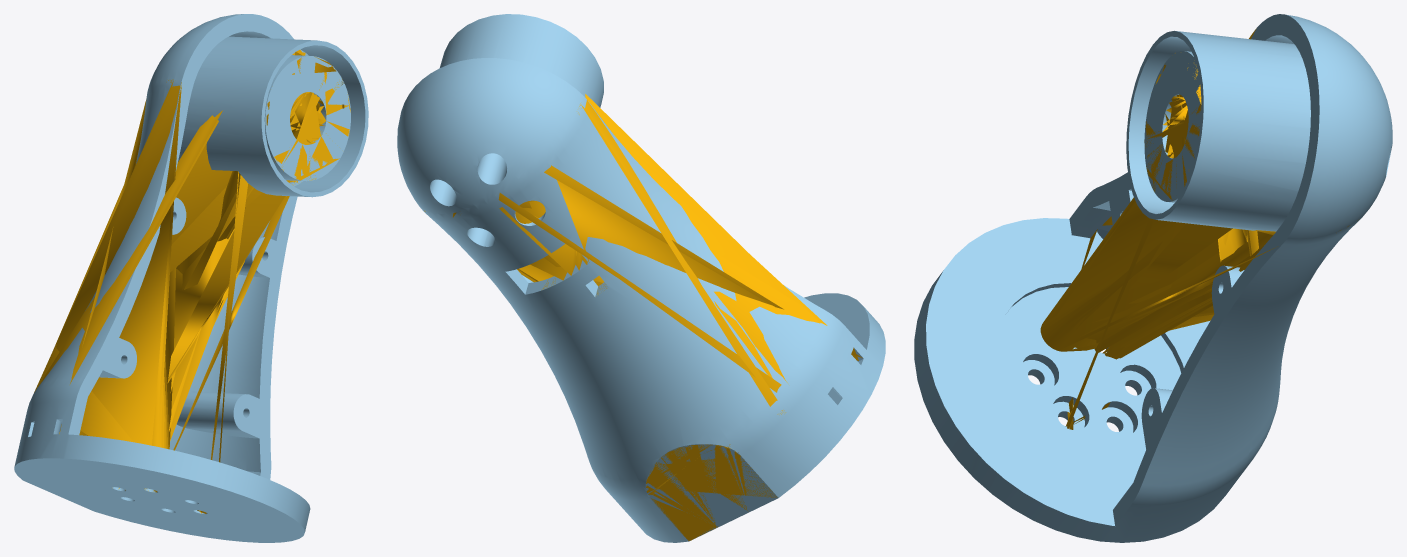
3 views of the same model, side by side, from view 1: azimuth 30°, elevation 25°; view 2: azimuth 150°, elevation 25°; view 3: azimuth 270°, elevation 25° (orthographic). The views are drawn at different scales.
Visible parts, largest first — view 1: node0, node1; view 2: node0, node1; view 3: node0, node1.
Part boxes in pixels (left/top/right/bottom): node0: left=14, top=14, right=368, bottom=542; node1: left=34, top=50, right=350, bottom=513; node0: left=397, top=14, right=885, bottom=542; node1: left=424, top=94, right=862, bottom=540; node0: left=914, top=14, right=1392, bottom=542; node1: left=1040, top=28, right=1357, bottom=429.
Bounding box in the file's own units: 0.1356 × 0.1622 × 0.1258.
